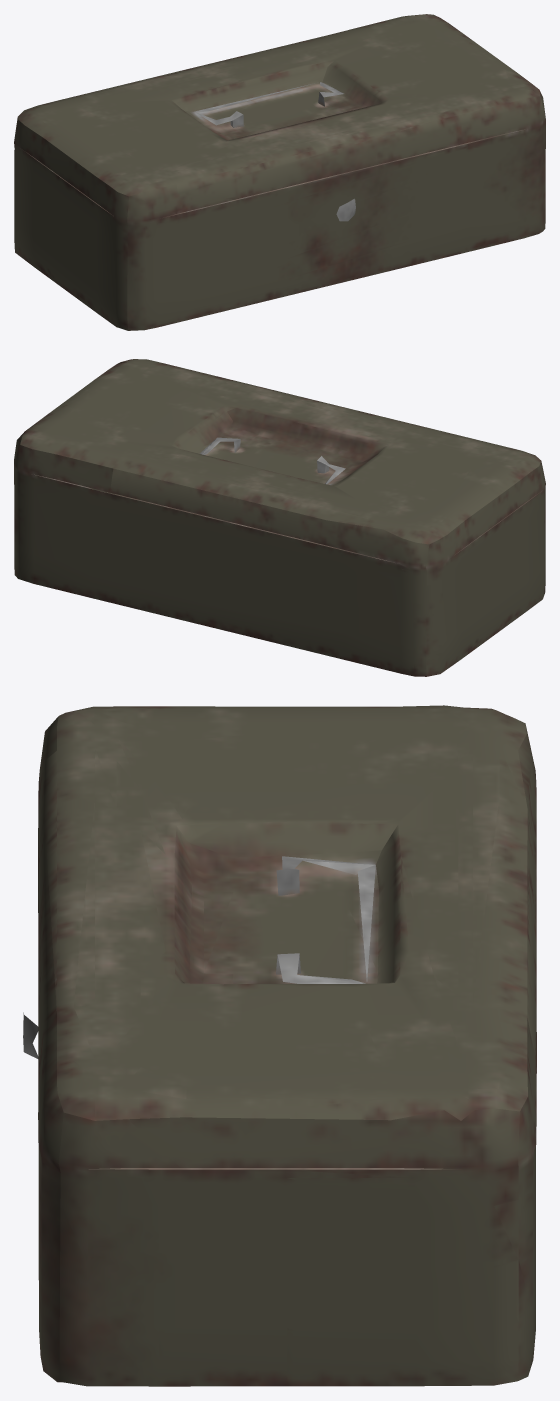
Rendered from coin_float.glb.
3 renders of one model, top to bottom at view 1: azimuth 30°, elevation 25°; view 2: azimuth 150°, elevation 25°; view 3: azimuth 270°, elevation 25°, orthographic. The views are drawn at different scales.
Parts seen in each view (by area): view 1: mesh; view 2: mesh; view 3: mesh.
Part boxes in pixels (left/top/right/bottom): mesh: left=14, top=14, right=545, bottom=330; mesh: left=14, top=359, right=545, bottom=676; mesh: left=23, top=705, right=536, bottom=1386.
Size of the model in its own units: 0.4036 by 0.126 by 0.2092.
1 material, 1 textured.
